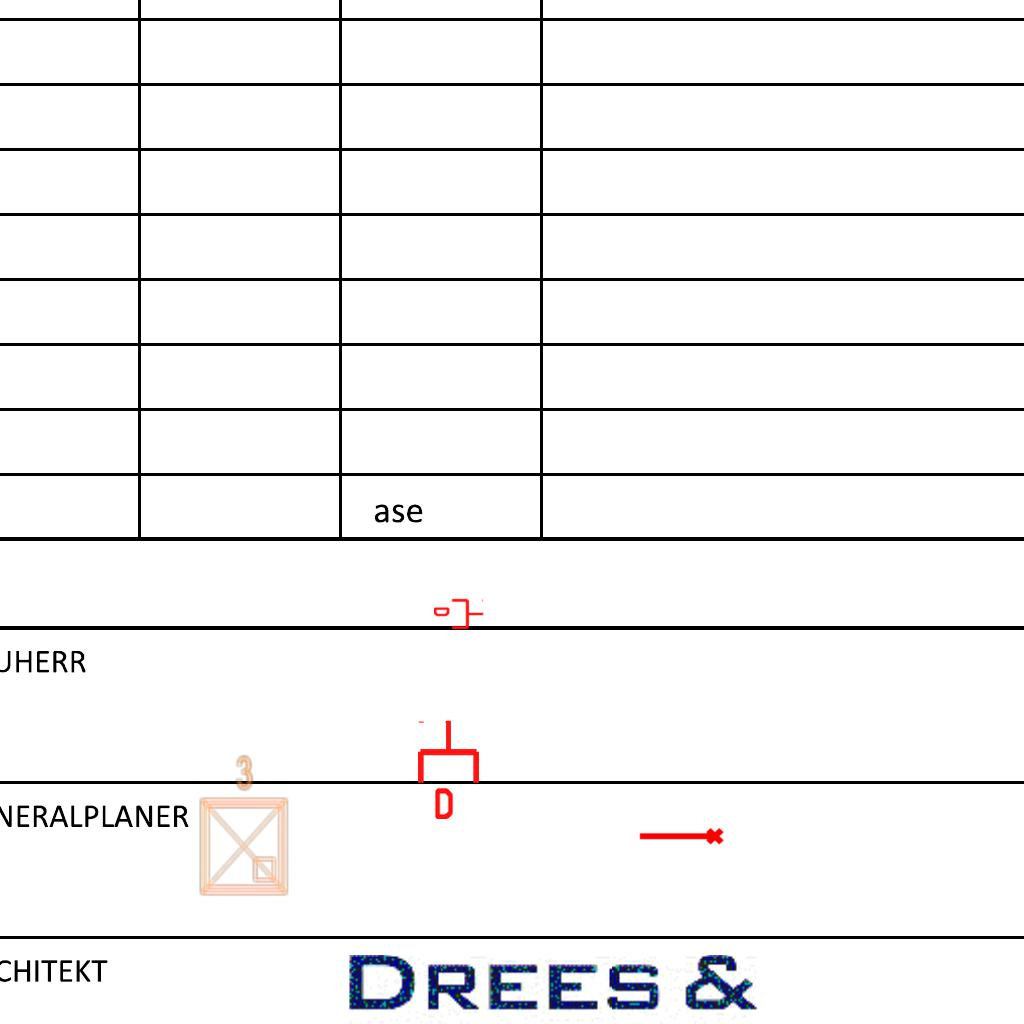ASR_Ansaugoeffnung: (637, 826, 725, 849)
Datenanschluss_einfach: (414, 719, 483, 819), (434, 597, 484, 631)
Einbaudownlights_LED_Konferenzraeume: (190, 751, 294, 901)
